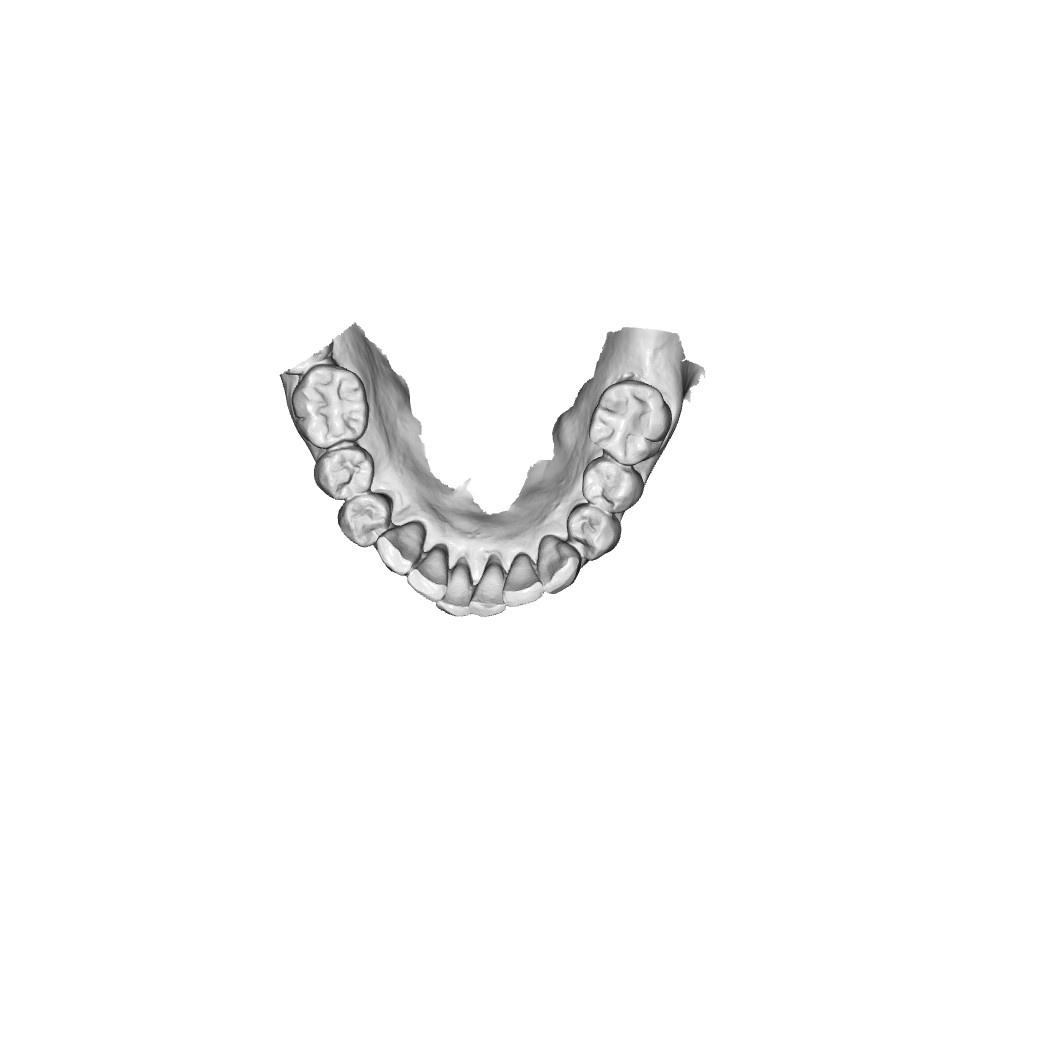canine: (534, 534, 583, 595), (374, 520, 425, 576)
incisor: (407, 547, 454, 604), (467, 554, 506, 620), (501, 550, 545, 608), (437, 563, 480, 620)
molar: (585, 380, 673, 467), (291, 363, 368, 449)
premolar: (578, 456, 645, 515), (314, 444, 375, 501), (565, 500, 621, 557), (337, 492, 393, 548)
